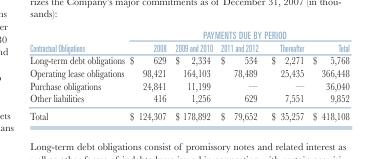table: (29, 28, 350, 128)
table column: (29, 28, 126, 128), (216, 28, 264, 128), (170, 28, 216, 128), (126, 28, 170, 128), (264, 28, 307, 128), (307, 28, 350, 128)
table column header: (29, 28, 350, 53)
table row: (29, 106, 350, 128), (29, 91, 350, 106), (29, 40, 350, 53), (29, 53, 350, 66), (29, 78, 350, 91), (29, 28, 350, 40), (29, 66, 350, 78)
table spanning cell: (126, 28, 350, 40), (29, 28, 126, 53)
